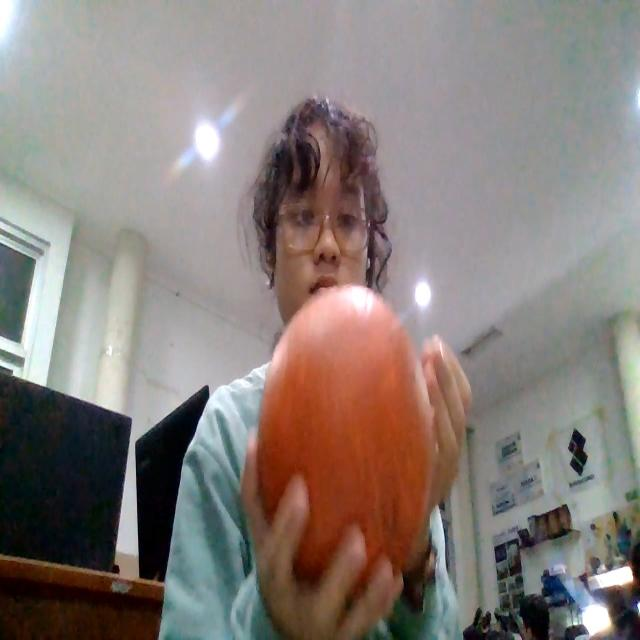ball: (255, 283, 435, 593)
